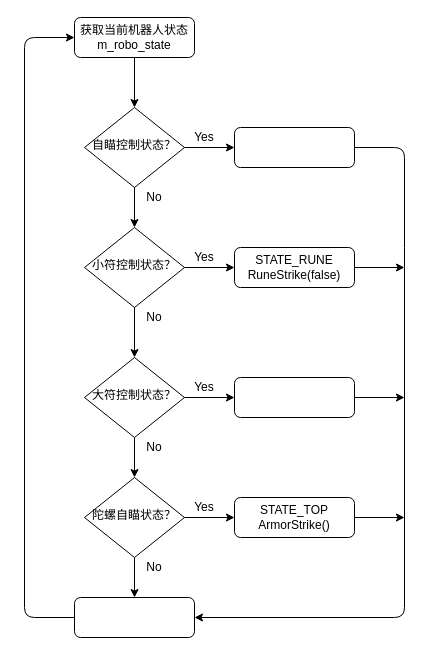
Image size: 430x655. Some labels were removed from this diagram. Each missing label, with the centre of its shape:
"STATE_ARMOR ArmorStrike()" goes at point 294,147.
"STATE_IDLE 待机状态" goes at point 134,617.
"STATE_SINE RuneStrike(true)" goes at point 294,397.
